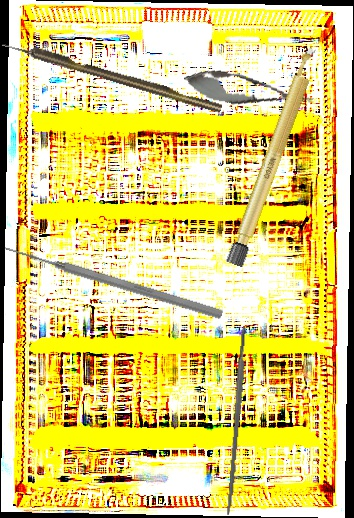Hook Surgical: (1, 36, 223, 116)
Micro Scissor: (181, 63, 316, 118)
Pusher: (0, 240, 225, 322)
Scalpel Handle: (225, 45, 323, 268), (224, 325, 250, 515)
